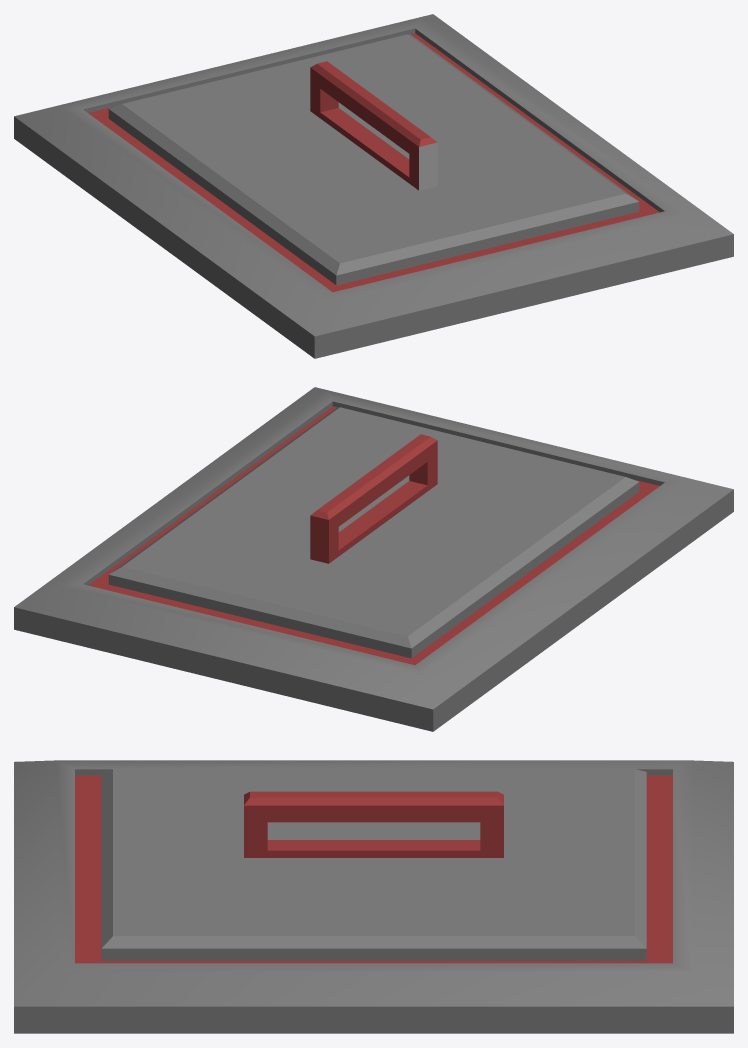
File: Tapa_de_Ingredientes.fbx
3 views of the same model, one above another, from view 1: azimuth 30°, elevation 25°; view 2: azimuth 150°, elevation 25°; view 3: azimuth 270°, elevation 25° (orthographic). The views are drawn at different scales.
Parts seen in each view (by area): view 1: Tapa_de_Ingredientes; view 2: Tapa_de_Ingredientes; view 3: Tapa_de_Ingredientes.
Boxes of the visible parts, x1,y1,x2,y2 form: Tapa_de_Ingredientes: (14,14,733,358); Tapa_de_Ingredientes: (14,387,733,731); Tapa_de_Ingredientes: (14,760,733,1033).
Size of the model in its own units: 1 by 0.2218 by 1.24.
